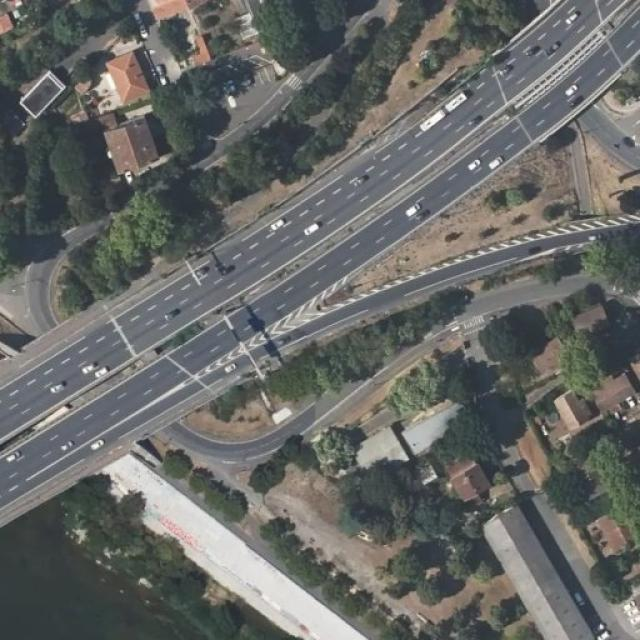maison: (539, 370, 640, 445), (93, 116, 163, 182), (404, 394, 476, 453), (102, 41, 160, 107), (346, 415, 406, 467), (21, 67, 67, 111), (570, 308, 608, 344), (187, 24, 218, 68)
usine: (483, 485, 602, 636)
